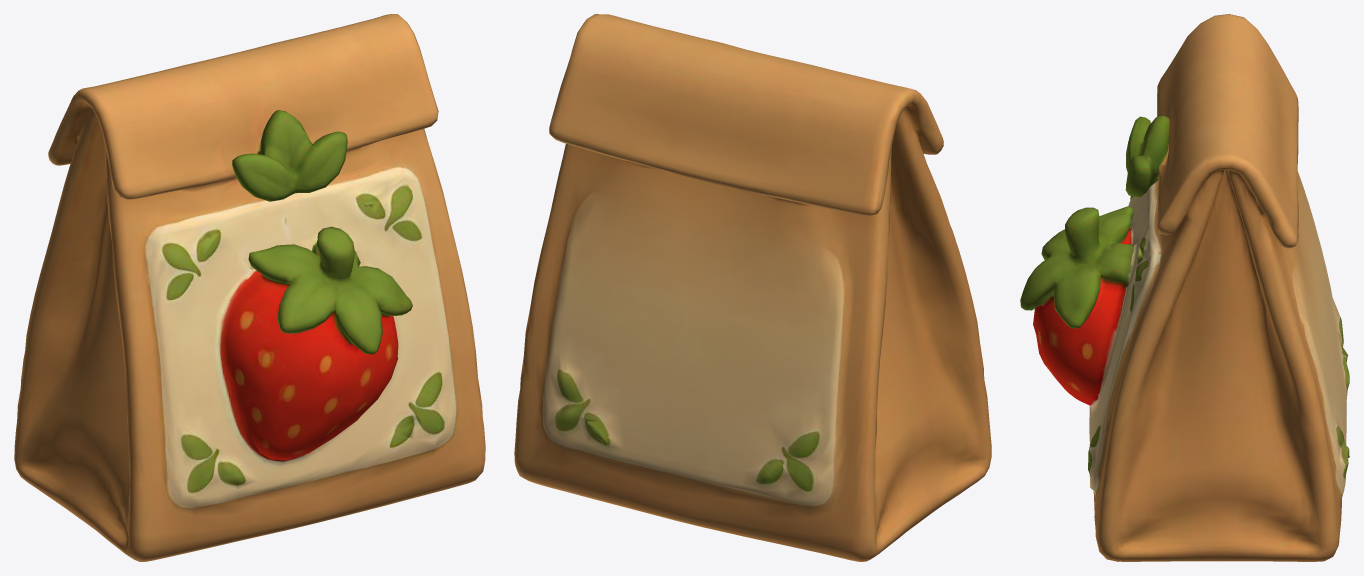
3 views of the same model, side by side, from view 1: azimuth 30°, elevation 25°; view 2: azimuth 150°, elevation 25°; view 3: azimuth 270°, elevation 25° (orthographic). The views are drawn at different scales.
Parts seen in each view (by area): view 1: seed-strawberry; view 2: seed-strawberry; view 3: seed-strawberry.
Boxes of the visible parts, x1=… form: seed-strawberry: x1=14, y1=14, x2=485, y2=561; seed-strawberry: x1=514, y1=14, x2=991, y2=561; seed-strawberry: x1=1020, y1=14, x2=1349, y2=561.
Bounding box in the file's own units: 0.1308 × 0.15 × 0.1114.
1 material, 1 textured.
